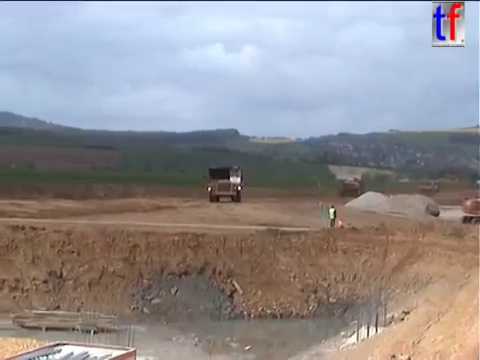excavator: (457, 194, 480, 229)
truck: (202, 164, 244, 203), (337, 177, 360, 197), (344, 175, 365, 196), (416, 180, 435, 196), (425, 180, 440, 193)
worker: (326, 203, 339, 230)
